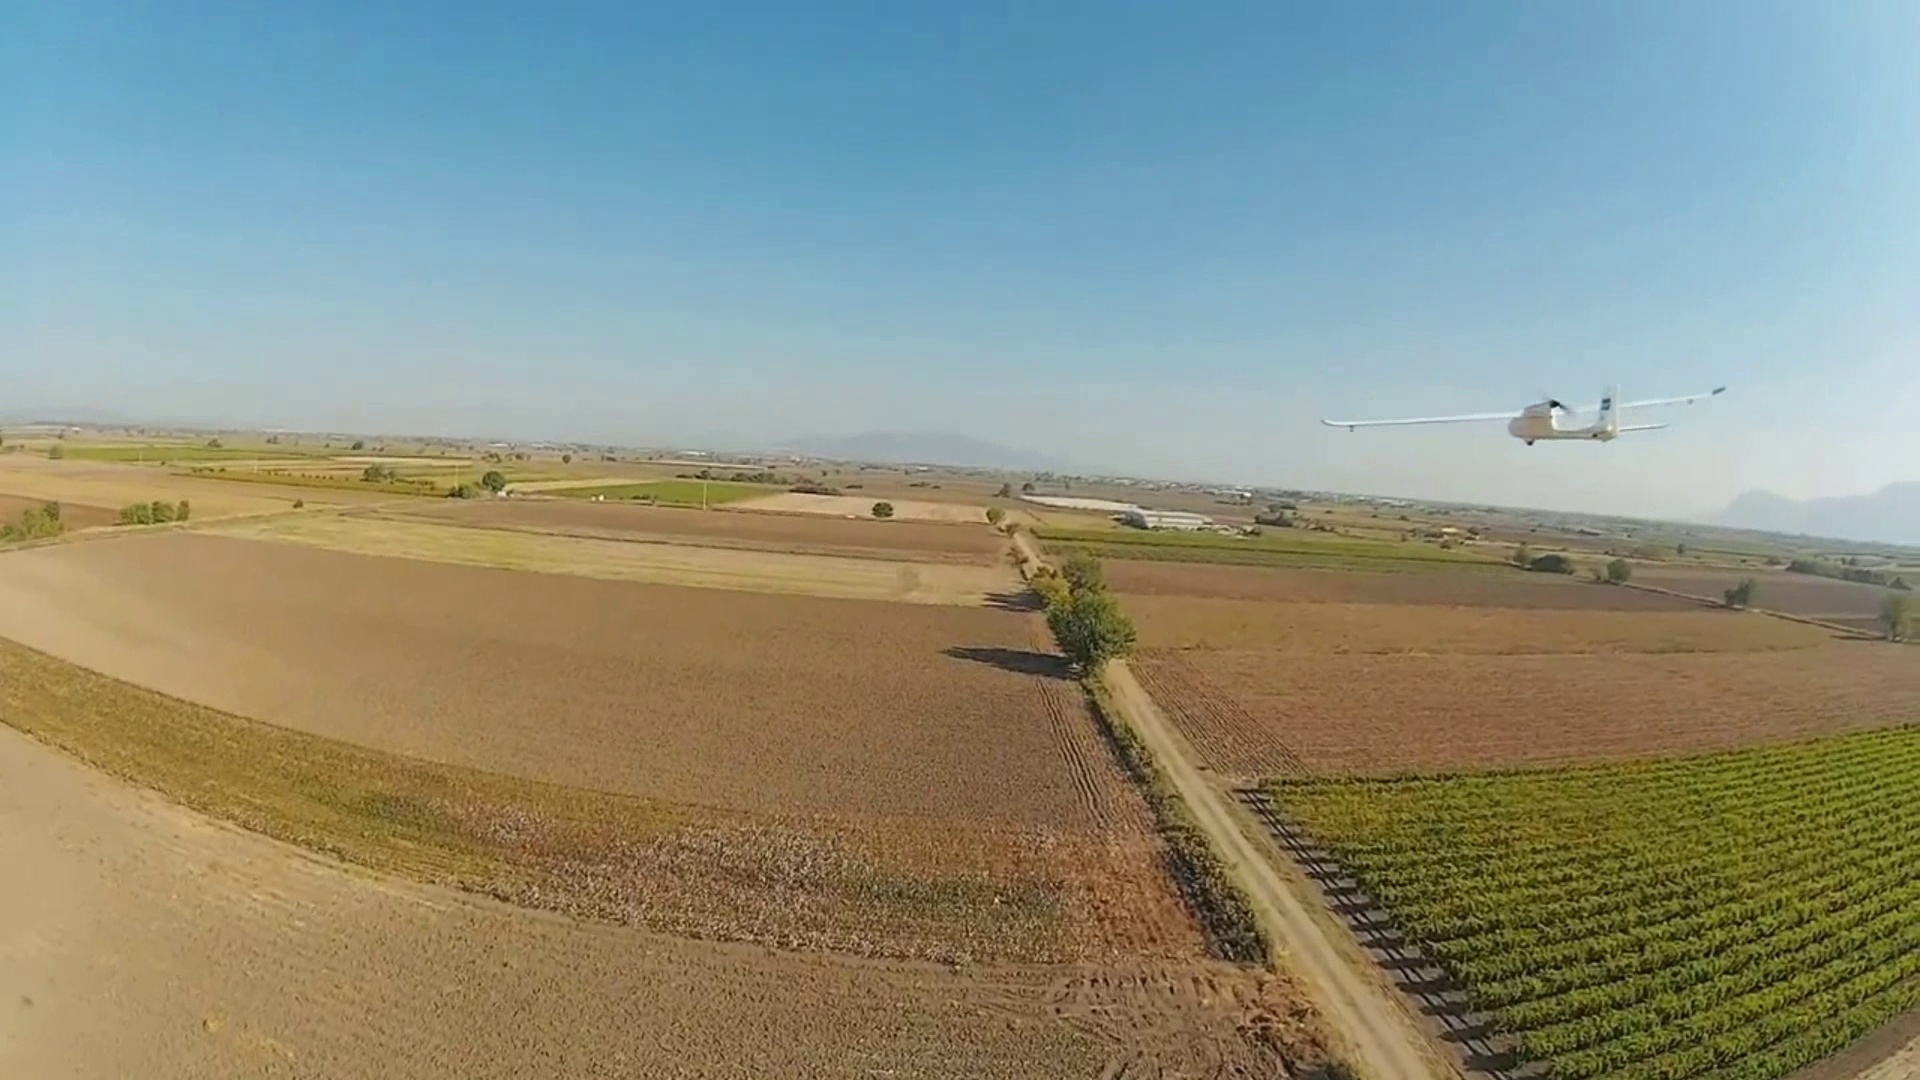airplane: (1319, 372, 1731, 445)
